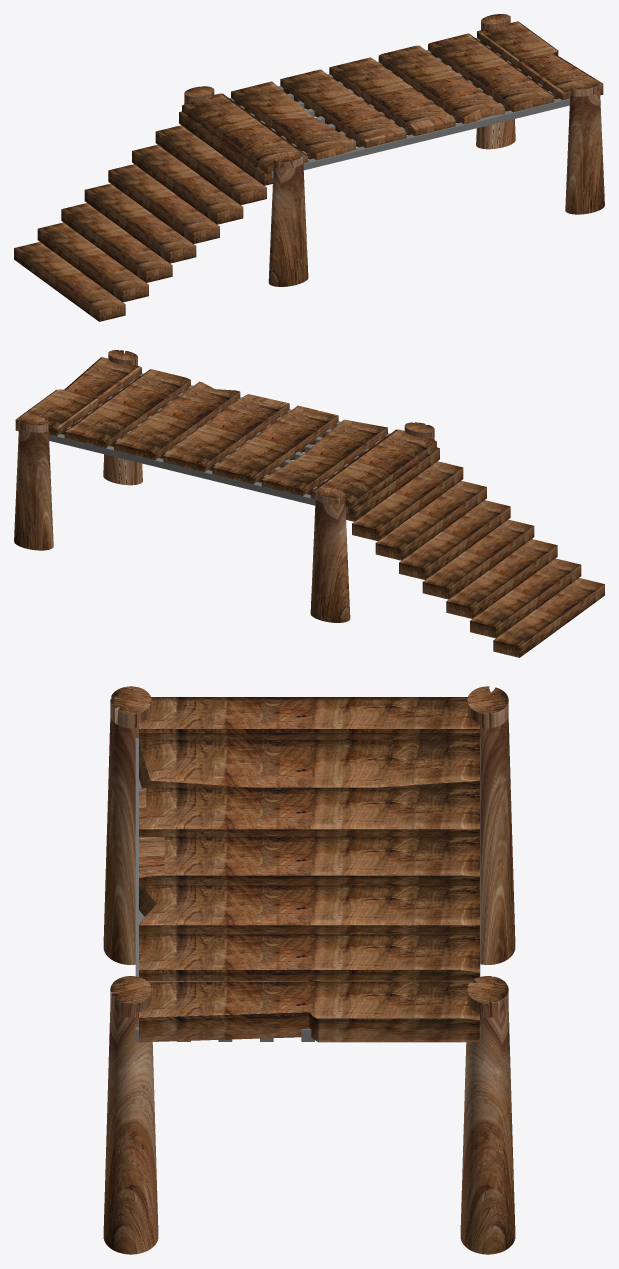
Rendered from dock.glb.
3 views of the same model, one above another, from view 1: azimuth 30°, elevation 25°; view 2: azimuth 150°, elevation 25°; view 3: azimuth 270°, elevation 25° (orthographic). The views are drawn at different scales.
Visible parts, largest first — view 1: Muelle_2, Escaleras_1, Barillas_0; view 2: Muelle_2, Escaleras_1, Barillas_0; view 3: Muelle_2, Barillas_0.
Boxes of the visible parts, x1,y1,x2,y2 form: Muelle_2: (182,14,604,286); Escaleras_1: (14,111,272,321); Barillas_0: (230,38,569,178); Muelle_2: (14,350,436,622); Escaleras_1: (346,447,604,657); Barillas_0: (49,373,389,513); Muelle_2: (103,686,515,1254); Barillas_0: (135,737,480,1041).
Size of the model in its own units: 20.41 by 4.8 by 7.22.
2 materials, 1 textured.
